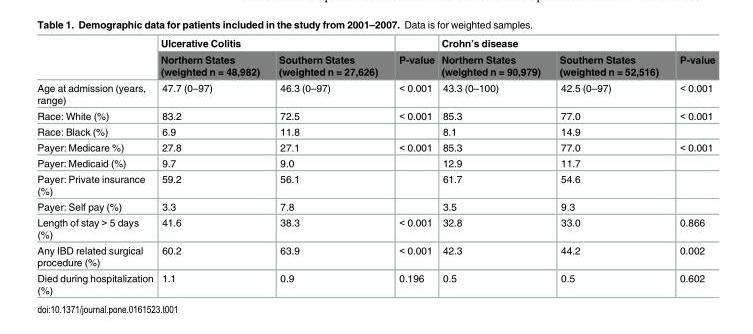table: (36, 36, 714, 295)
table column: (36, 36, 156, 295), (268, 36, 387, 295), (549, 36, 668, 295), (156, 36, 268, 295), (437, 36, 549, 295), (387, 36, 437, 295), (668, 36, 714, 295)
table column header: (36, 36, 714, 79)
table row: (36, 50, 714, 79), (36, 79, 714, 107), (36, 170, 714, 198), (36, 241, 714, 269), (36, 214, 714, 241), (36, 269, 714, 295), (36, 107, 714, 123), (36, 138, 714, 154), (36, 154, 714, 170), (36, 198, 714, 214), (36, 123, 714, 138), (36, 36, 714, 50)
table spanning cell: (156, 36, 387, 50), (437, 36, 668, 50), (387, 36, 437, 79), (668, 36, 714, 79)
